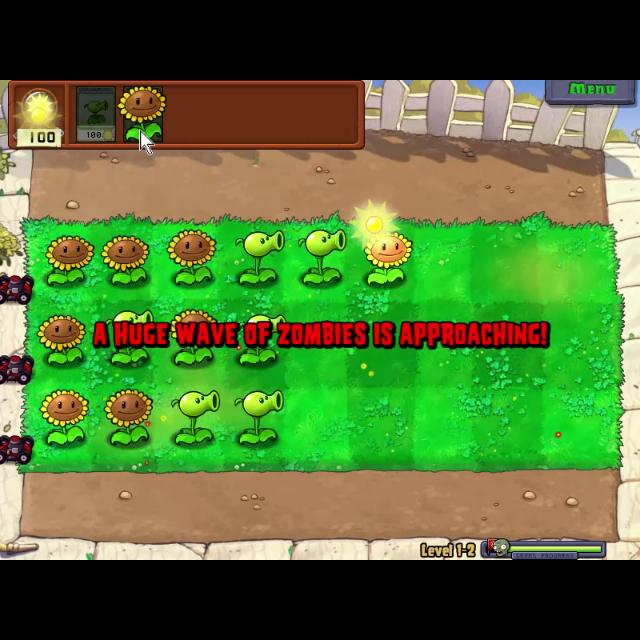Garden: (15, 212, 625, 473)
Menu Button: (545, 80, 635, 106)
Mower: (0, 271, 36, 307), (1, 352, 36, 388), (0, 434, 38, 466)
Peashooter: (74, 84, 118, 144)
Peashooter Seed: (165, 387, 222, 451), (102, 310, 160, 368), (232, 386, 284, 446), (236, 310, 286, 370), (235, 229, 285, 287), (298, 229, 348, 283)
Seed Panel: (6, 80, 368, 152)
Sun: (351, 199, 401, 251)
Sunflower Seed: (160, 226, 222, 292), (97, 382, 153, 448), (36, 386, 86, 450), (361, 230, 413, 288), (35, 311, 87, 367), (41, 231, 94, 285), (99, 233, 151, 287), (170, 309, 216, 369)
